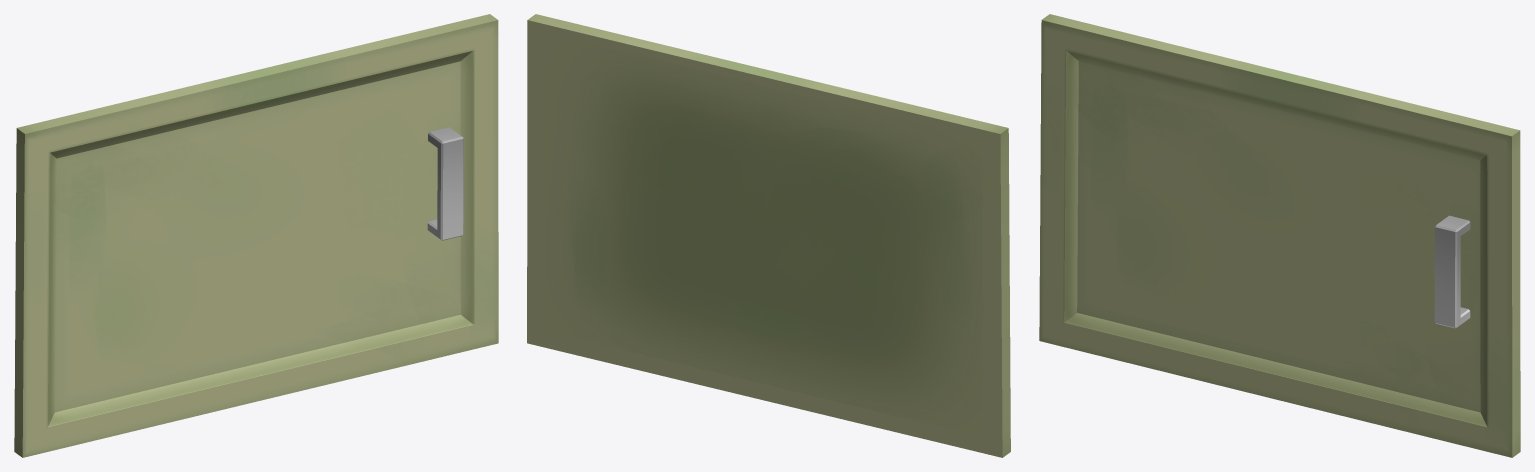
File: CounterDoor MIR.fbx
3 renders of one model, left to right at view 1: azimuth 30°, elevation 25°; view 2: azimuth 150°, elevation 25°; view 3: azimuth 330°, elevation 25°, orthographic.
Visible parts, largest first — view 1: CounterDoor MIR; view 2: CounterDoor MIR; view 3: CounterDoor MIR.
Boxes of the visible parts, left/top/right/bottom form: CounterDoor MIR: left=14, top=14, right=498, bottom=457; CounterDoor MIR: left=527, top=14, right=1010, bottom=457; CounterDoor MIR: left=1039, top=14, right=1520, bottom=457.
Size of the model in its own units: 99.25 by 64.77 by 7.
